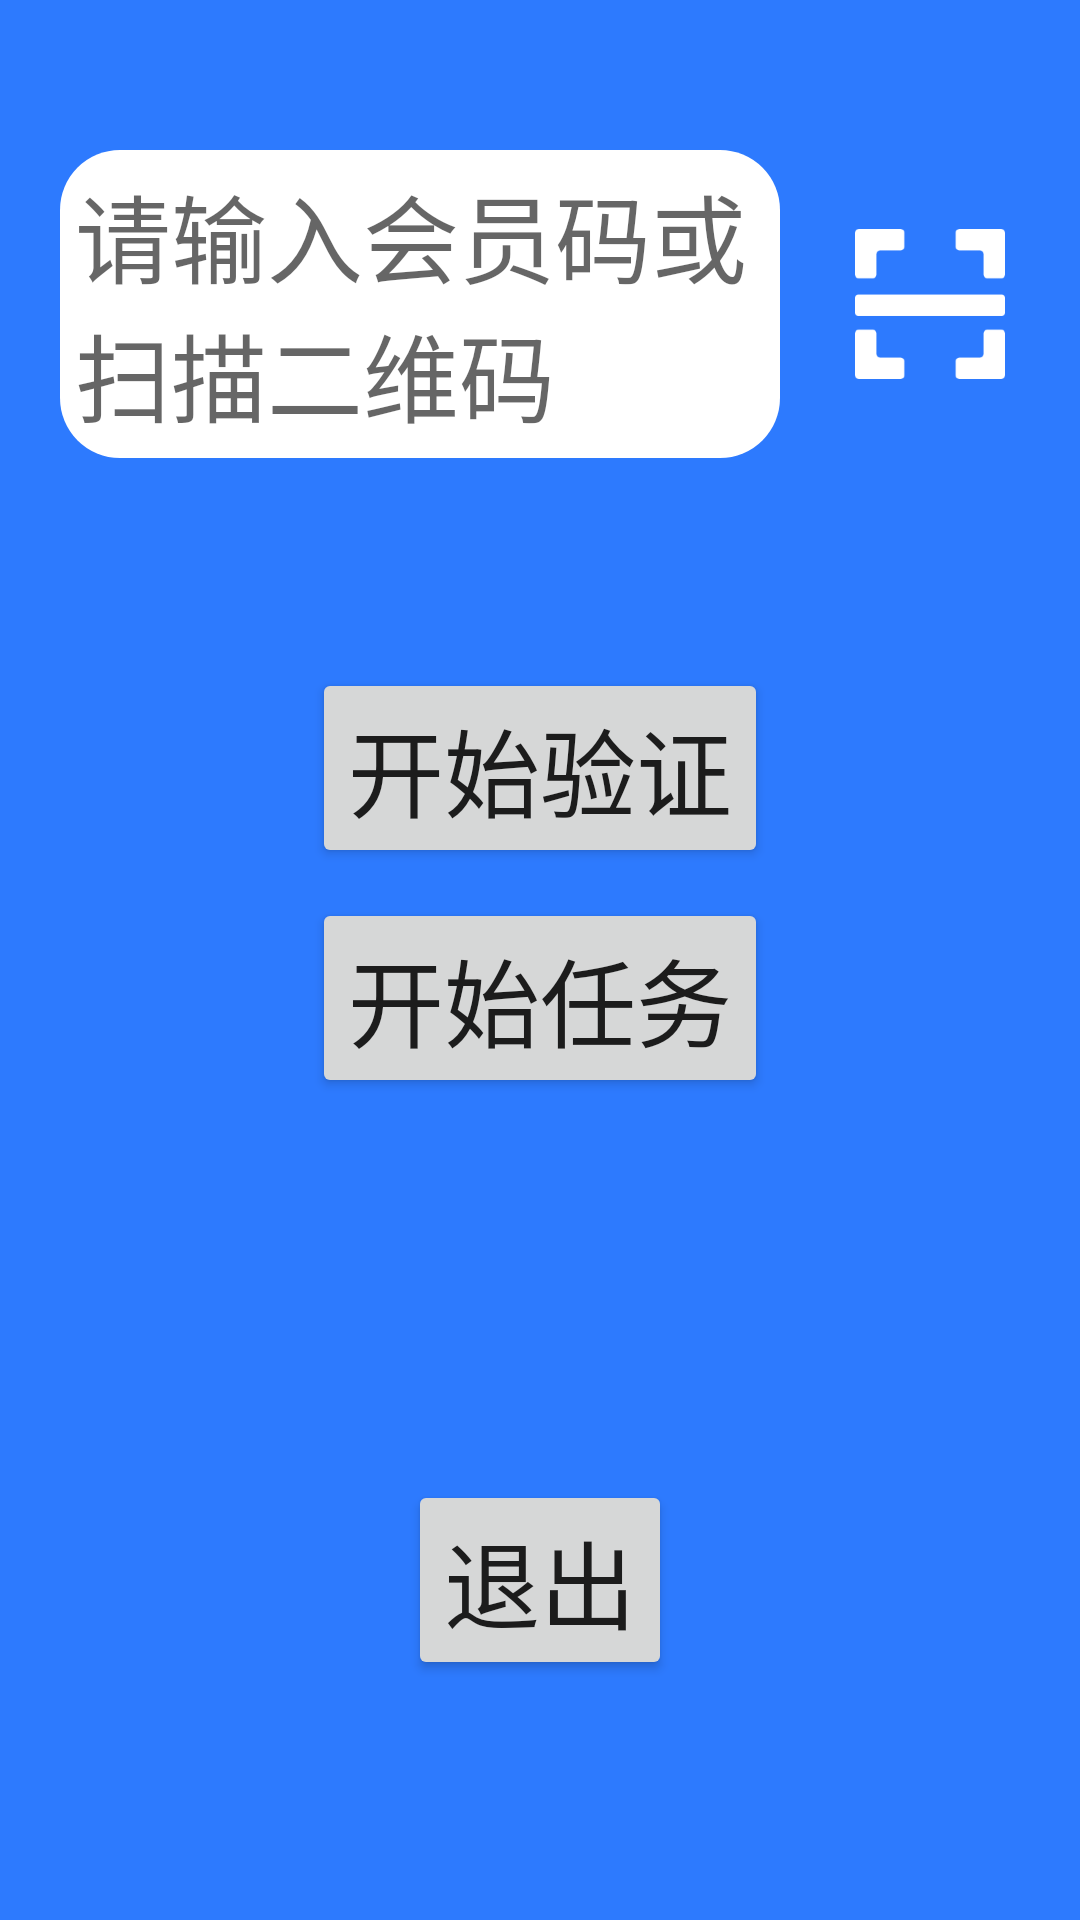

Named icons in this screenshot (1080 x 1920) and their bounding boxes, bbox=(x1, y1, x2, y2):
scan: bbox=(855, 229, 1005, 379)
